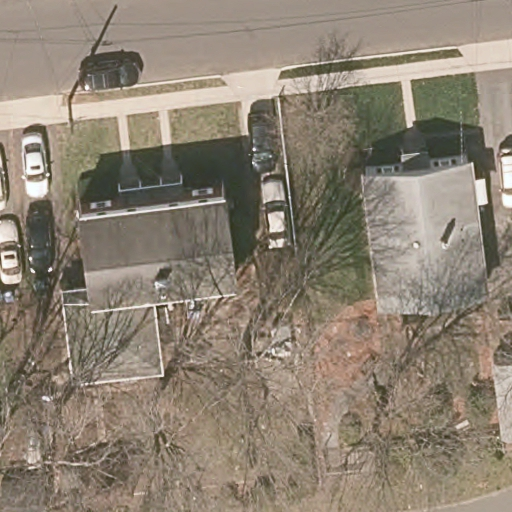DT: (63, 97, 84, 133)
